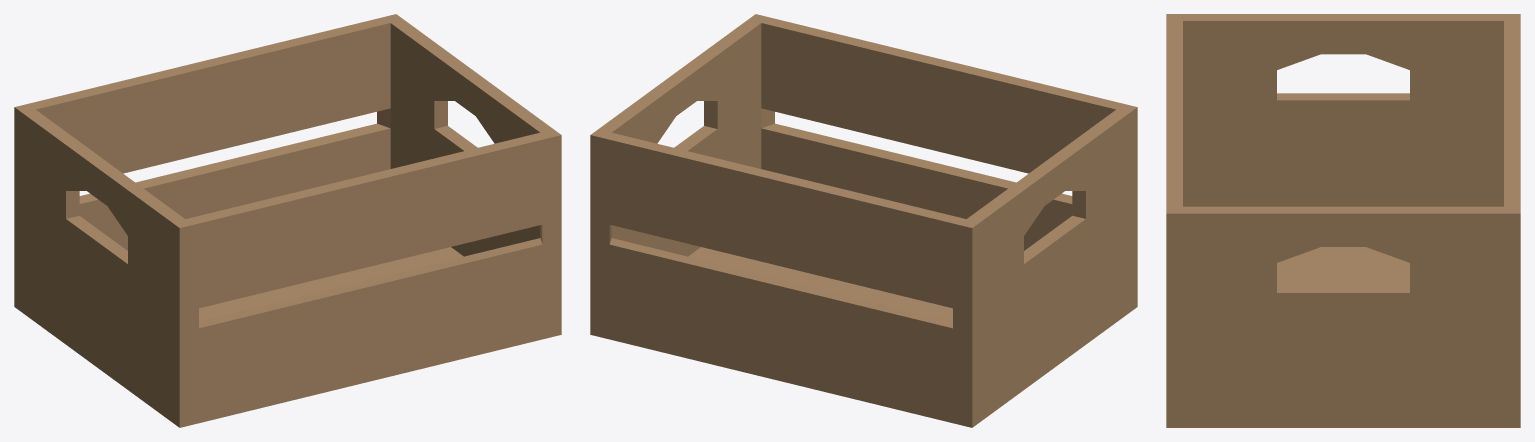
The model's file is crate.fbx.
The picture shows the model from 3 angles, left to right: view 1: azimuth 30°, elevation 25°; view 2: azimuth 150°, elevation 25°; view 3: azimuth 270°, elevation 25°; orthographic projection. The views are drawn at different scales.
Visible parts, largest first — view 1: Crate; view 2: Crate; view 3: Crate.
Boxes of the visible parts, bbox=[...] form: Crate: bbox=[14, 14, 561, 427]; Crate: bbox=[590, 14, 1137, 427]; Crate: bbox=[1166, 14, 1520, 427].
Bounding box in the file's own units: 200 × 100 × 150.
